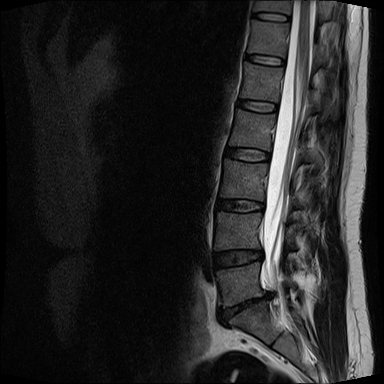Lumbar Disc Bulge (LDB): (203, 281, 292, 330), (204, 235, 283, 274), (204, 187, 282, 219)
Normal IVD: (222, 143, 271, 166), (233, 93, 279, 116), (243, 47, 285, 71), (248, 8, 292, 25)
Spinal Stenosis (SS): (256, 274, 283, 314), (251, 231, 276, 266)
